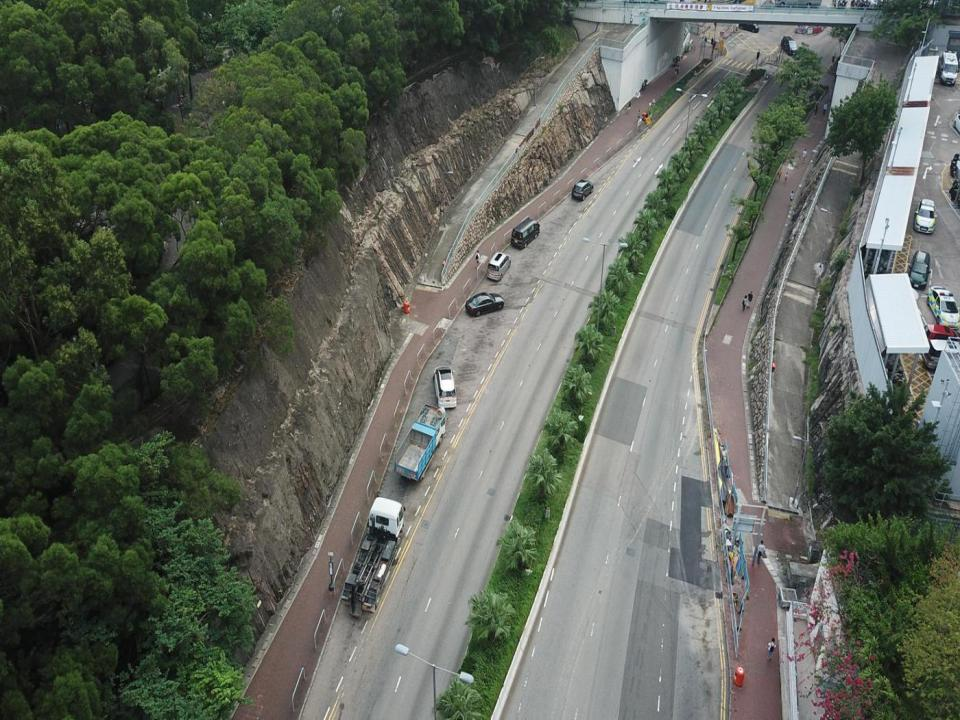car: (929, 284, 960, 330), (916, 324, 958, 354), (907, 251, 931, 291), (434, 366, 456, 408), (914, 196, 937, 236), (466, 293, 504, 316), (485, 252, 511, 282), (572, 179, 594, 201)
truck: (343, 497, 404, 617), (394, 402, 445, 482)
van: (922, 337, 960, 371), (510, 218, 539, 248), (780, 34, 798, 57), (738, 15, 759, 32)
